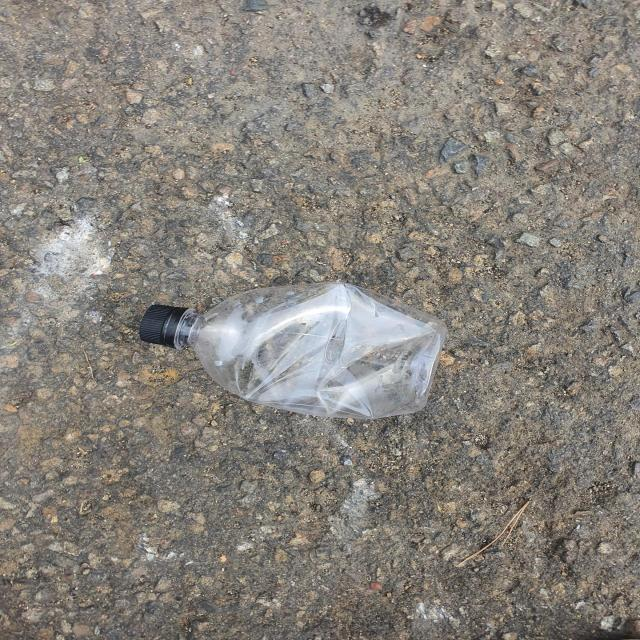plastic: (138, 283, 447, 419)
